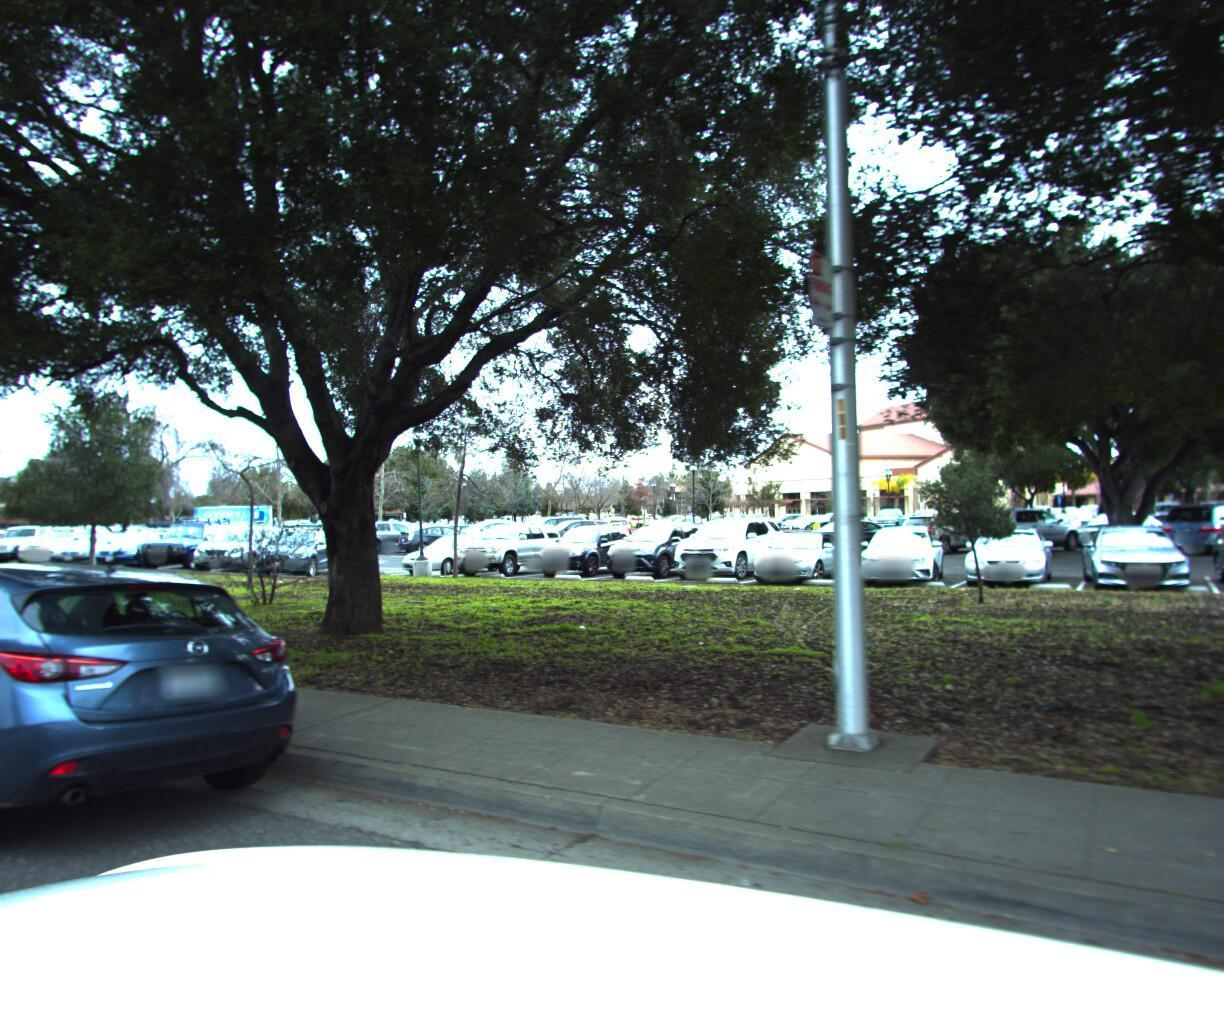car: (0, 547, 332, 917)
